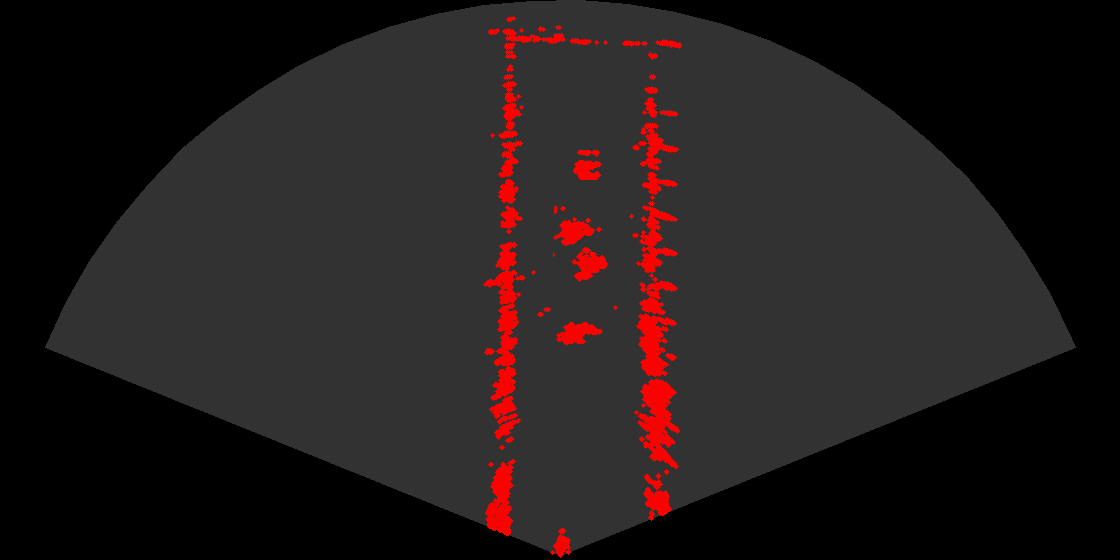AUV: (550, 320, 606, 352)
ball: (553, 142, 613, 183)
cage: (553, 206, 616, 290)
